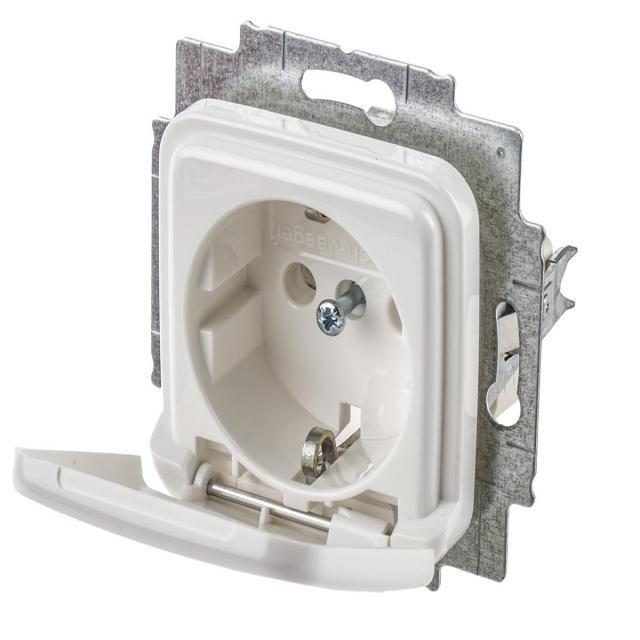typeb: (121, 80, 515, 604)
